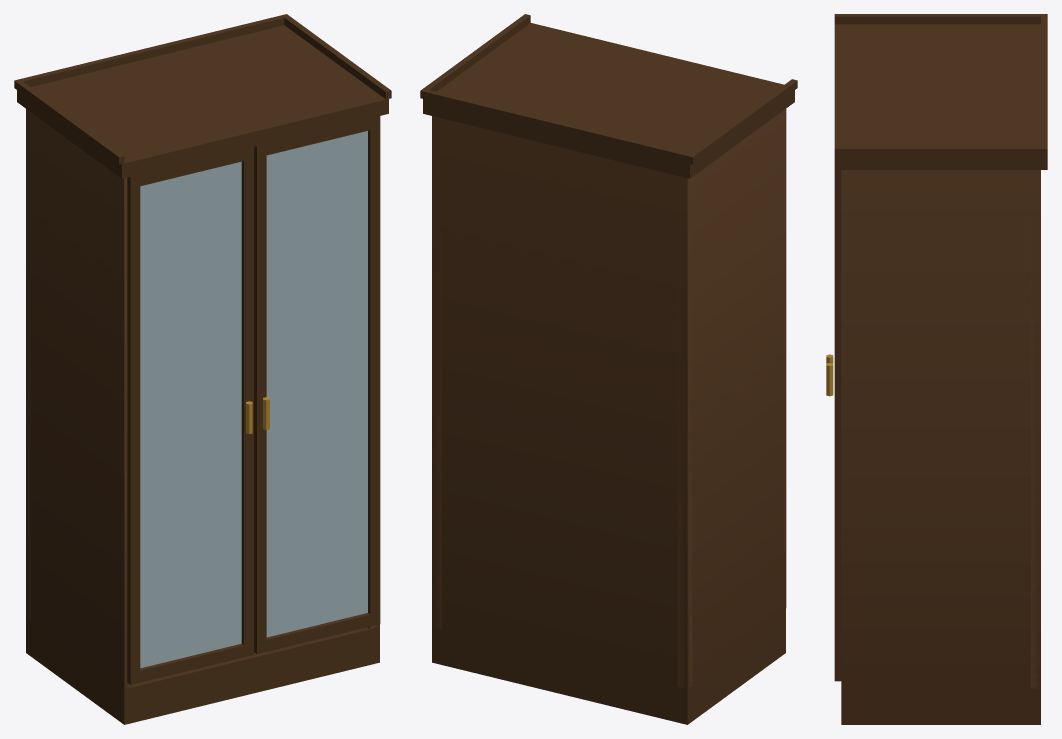
File: tu_bao_kinh__thu_thach.glb
The picture shows the model from 3 angles, left to right: view 1: azimuth 30°, elevation 25°; view 2: azimuth 150°, elevation 25°; view 3: azimuth 270°, elevation 25°; orthographic projection.
Parts seen in each view (by area): view 1: tu_bao_kinh__thu_thach; view 2: tu_bao_kinh__thu_thach; view 3: tu_bao_kinh__thu_thach.
Part boxes in pixels (left/top/right/bottom): tu_bao_kinh__thu_thach: left=14, top=14, right=391, bottom=724; tu_bao_kinh__thu_thach: left=420, top=14, right=797, bottom=724; tu_bao_kinh__thu_thach: left=826, top=14, right=1047, bottom=724.
Bounding box in the file's own units: 0.96 × 1.93 × 0.6654.
